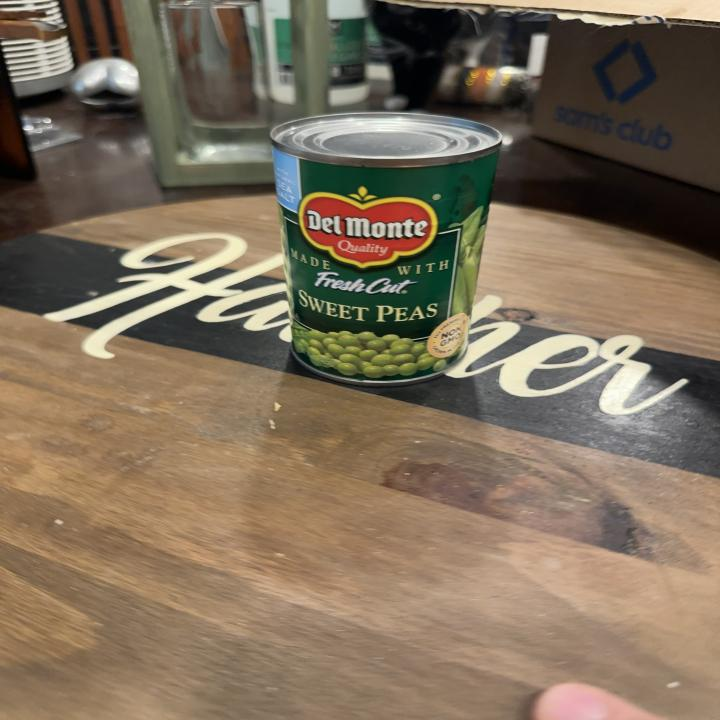Canned-Peas: (268, 109, 505, 387)
